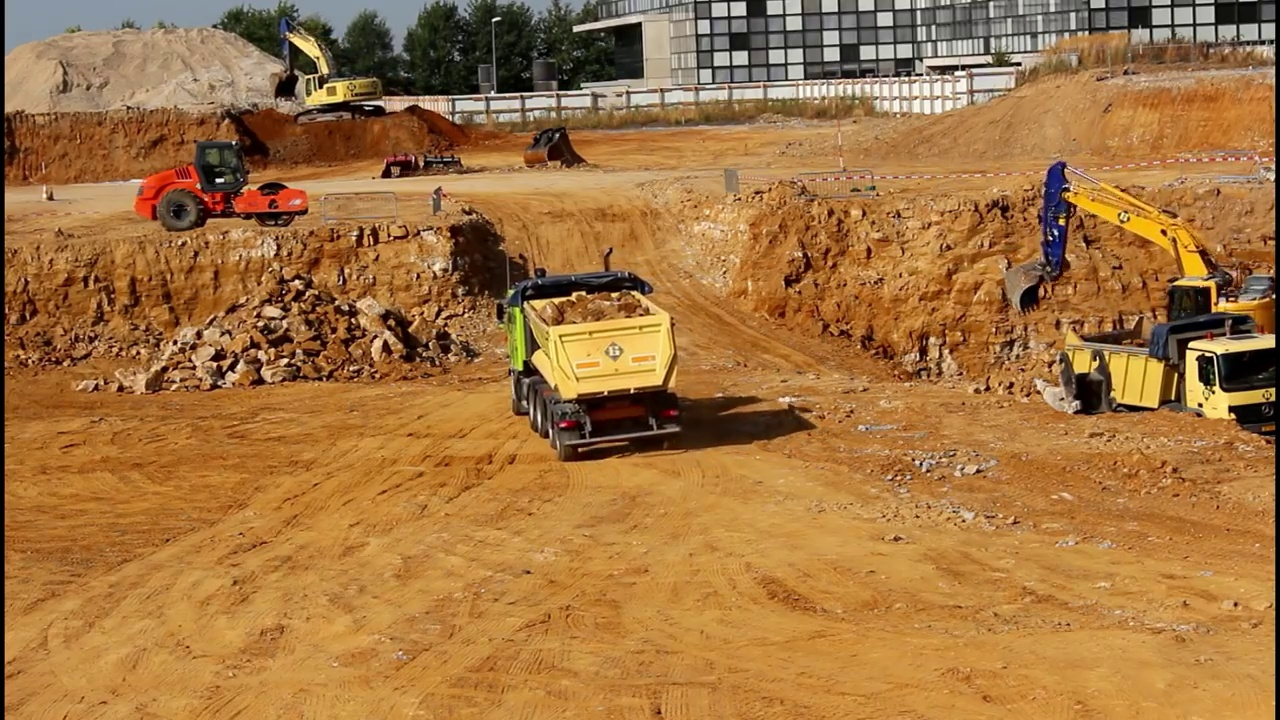compactor: (136, 140, 312, 234)
excavator: (995, 158, 1280, 404), (264, 13, 392, 124)
truck: (495, 244, 688, 465), (1051, 314, 1280, 466)
